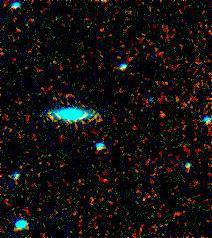star: (147, 101, 177, 131)
